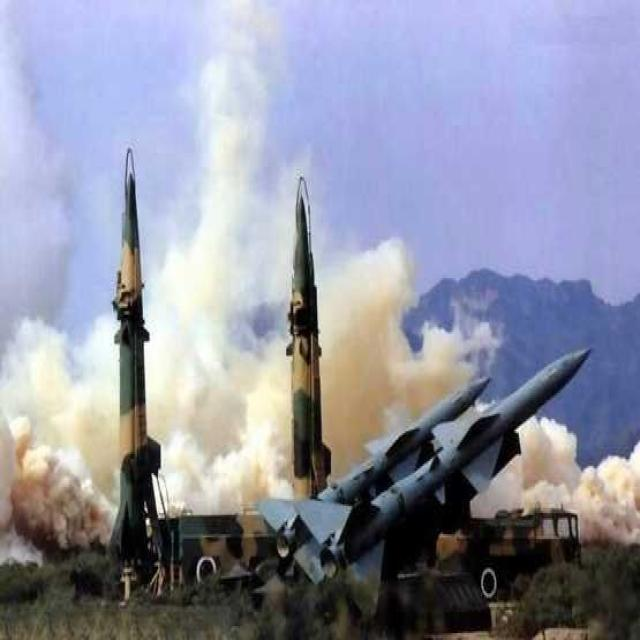missile: (296, 340, 596, 608), (258, 378, 492, 544), (112, 146, 165, 577), (286, 175, 337, 489)
